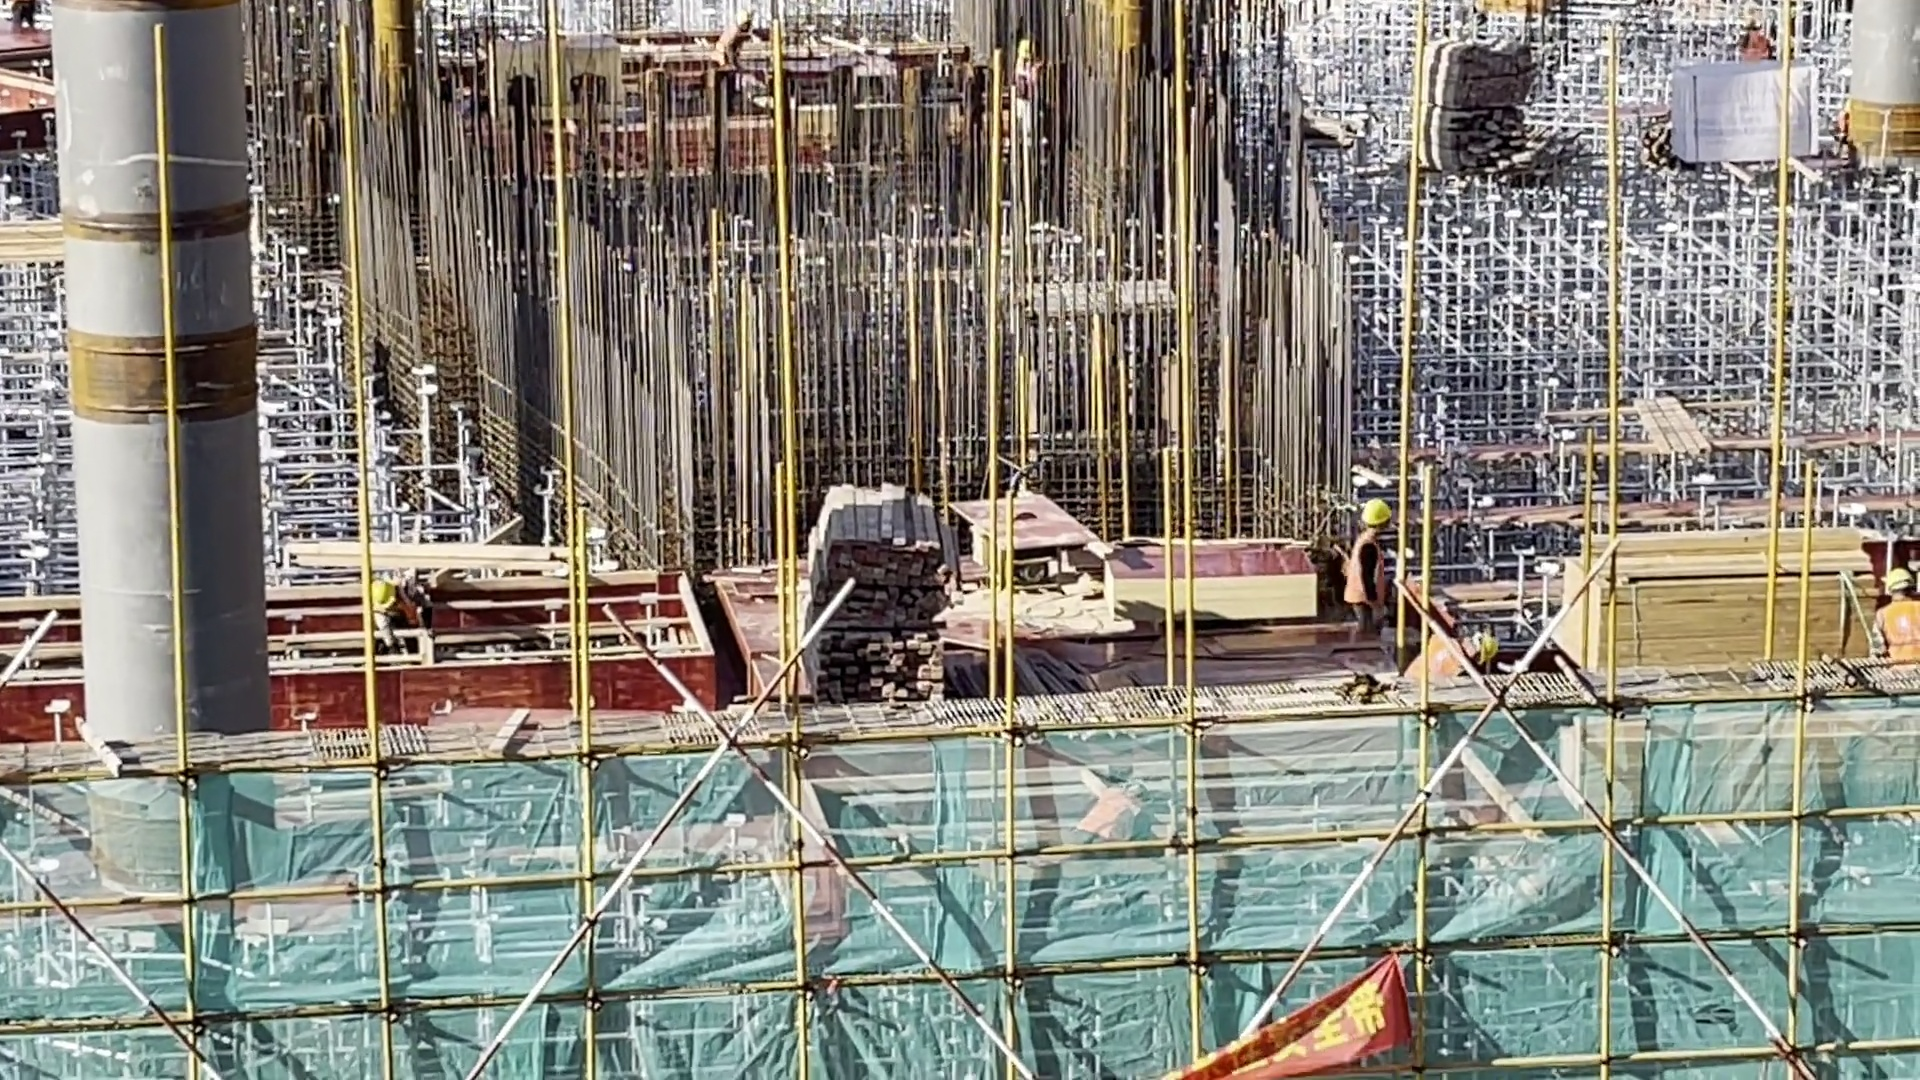helmet: (1354, 489, 1392, 531), (1881, 564, 1918, 602), (371, 580, 401, 615)
person: (1326, 486, 1419, 679), (367, 564, 454, 663), (1843, 560, 1920, 671)
slogan: (1143, 936, 1426, 1080)
vest: (1336, 537, 1393, 613), (1875, 606, 1920, 675)
wood: (1544, 515, 1900, 709), (786, 460, 964, 702)
